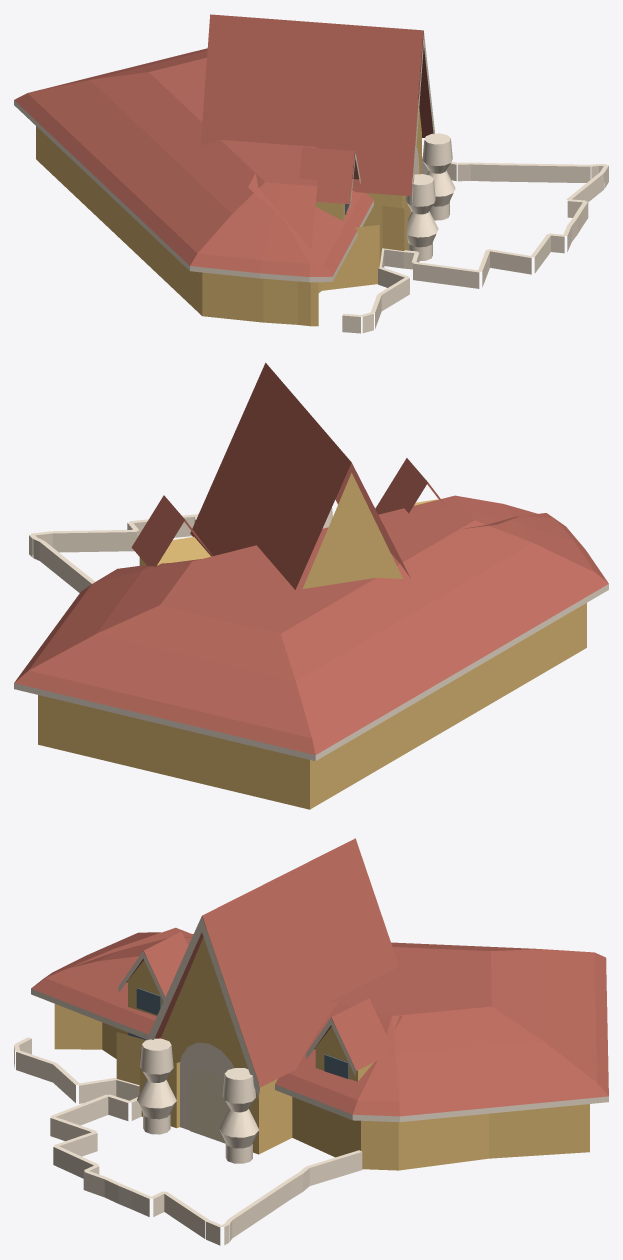
3 renders of one model, top to bottom at view 1: azimuth 30°, elevation 25°; view 2: azimuth 150°, elevation 25°; view 3: azimuth 270°, elevation 25°, orthographic. The views are drawn at different scales.
Parts seen in each view (by area): view 1: mickeys-house-disneyland; view 2: mickeys-house-disneyland; view 3: mickeys-house-disneyland.
Part boxes in pixels (x1=…): mickeys-house-disneyland: x1=14, y1=14, x2=608, y2=333; mickeys-house-disneyland: x1=14, y1=362, x2=608, y2=809; mickeys-house-disneyland: x1=14, y1=838, x2=608, y2=1245.
Size of the model in its own units: 27.61 by 11.8 by 28.16.
